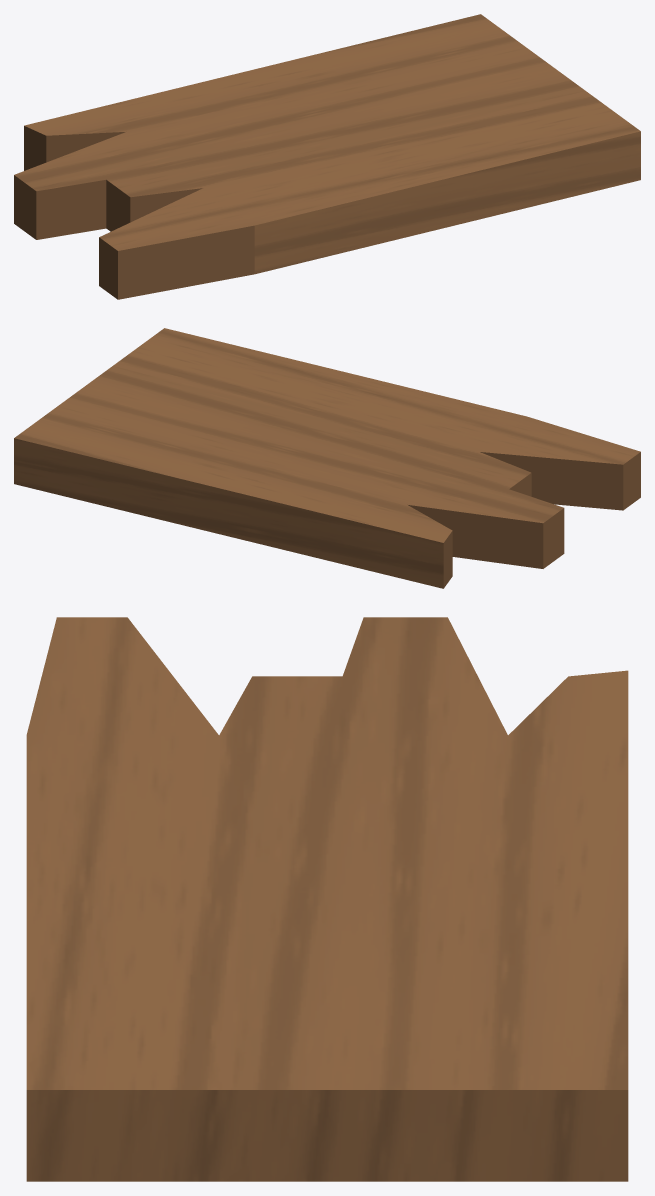
Rendered from Wood Plank 2.fbx.
3 views of the same model, one above another, from view 1: azimuth 30°, elevation 25°; view 2: azimuth 150°, elevation 25°; view 3: azimuth 270°, elevation 25° (orthographic). The views are drawn at different scales.
Visible parts, largest first — view 1: Wood_Plank_part_2; view 2: Wood_Plank_part_2; view 3: Wood_Plank_part_2.
Boxes of the visible parts, x1,y1,x2,y2 form: Wood_Plank_part_2: [14, 14, 640, 299]; Wood_Plank_part_2: [14, 328, 640, 588]; Wood_Plank_part_2: [26, 617, 628, 1181].
Bounding box in the file's own units: 2.59 × 0.2348 × 1.4.
